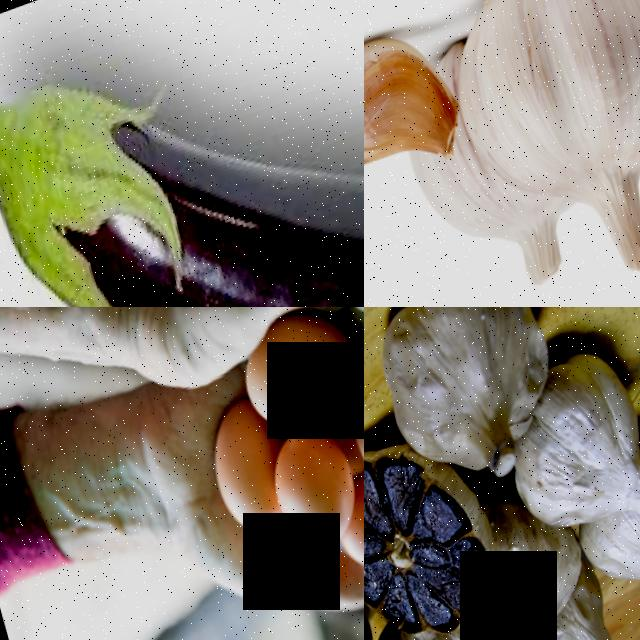egg_: (230, 309, 362, 455), (262, 429, 364, 571), (195, 403, 285, 553), (337, 357, 364, 529), (334, 508, 364, 591)
eggplant: (0, 0, 364, 307)
garlic: (429, 0, 640, 286), (365, 307, 554, 489), (504, 346, 640, 551), (466, 492, 599, 640), (364, 17, 464, 204), (578, 511, 640, 640)
